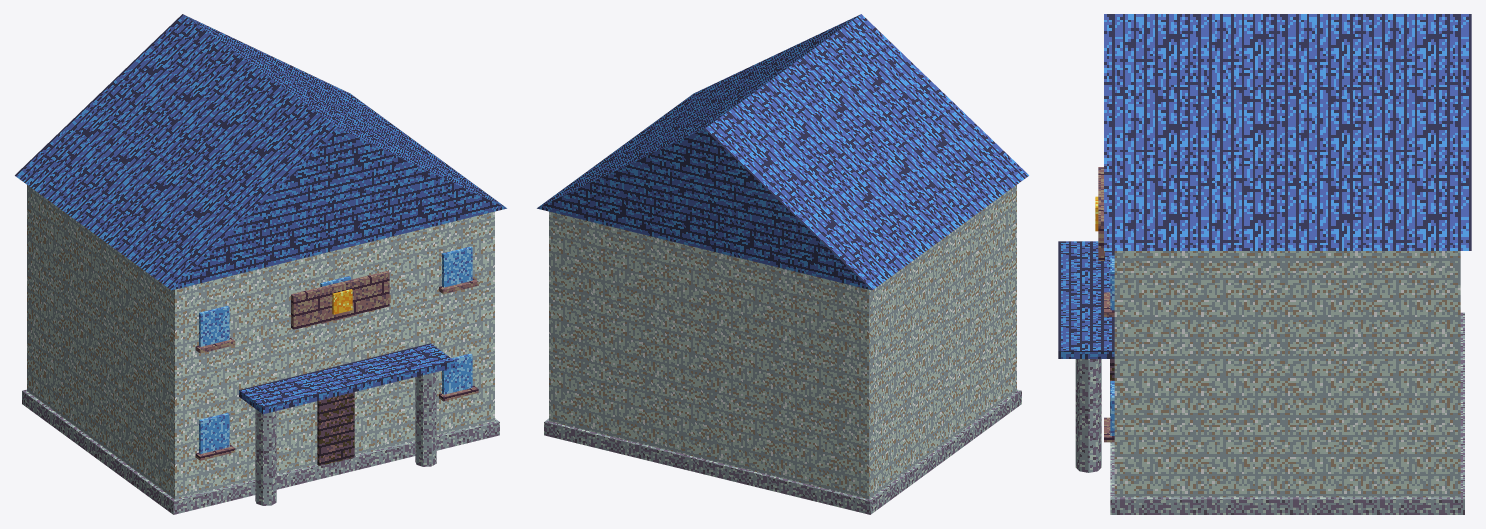
The model's file is guilda.glb.
3 renders of one model, left to right at view 1: azimuth 30°, elevation 25°; view 2: azimuth 150°, elevation 25°; view 3: azimuth 270°, elevation 25°, orthographic. The views are drawn at different scales.
Parts seen in each view (by area): view 1: guilda; view 2: guilda; view 3: guilda.
Part boxes in pixels (x1=…): guilda: x1=15, y1=14, x2=506, y2=514; guilda: x1=537, y1=14, x2=1028, y2=514; guilda: x1=1058, y1=14, x2=1471, y2=514.
Bounding box in the file's own units: 10.5 × 10.4 × 9.55.
7 materials, 7 textured.
